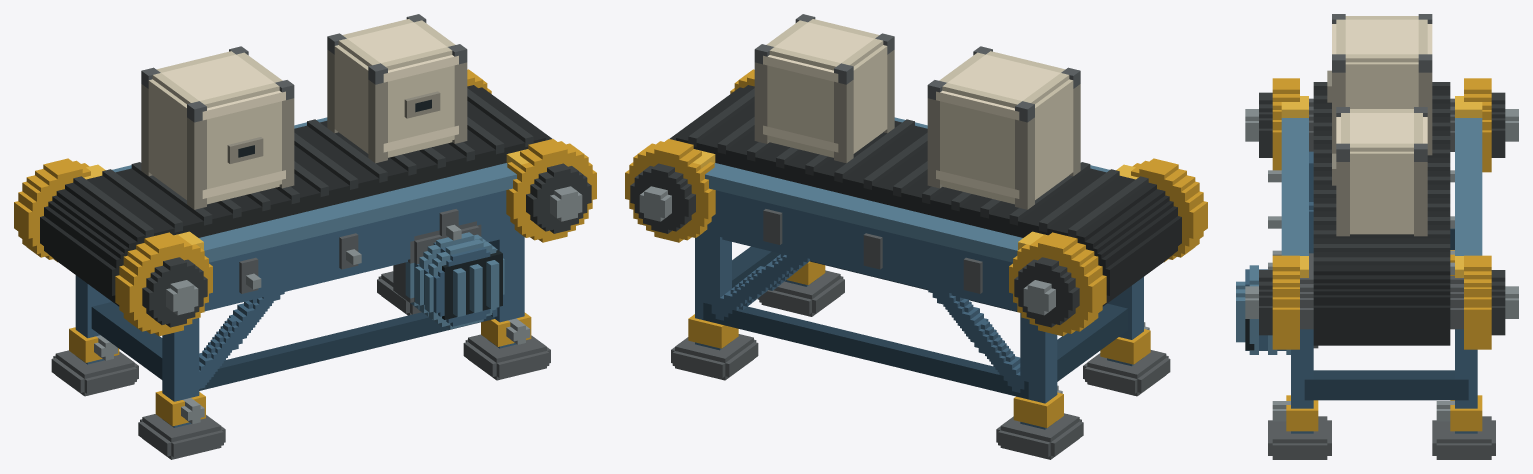
File: conveyor.glb
The picture shows the model from 3 angles, left to right: view 1: azimuth 30°, elevation 25°; view 2: azimuth 150°, elevation 25°; view 3: azimuth 270°, elevation 25°; orthographic projection. The views are drawn at different scales.
Visible parts, largest first — view 1: conveyor; view 2: conveyor; view 3: conveyor.
Boxes of the visible parts, x1=… form: conveyor: x1=14, y1=14, x2=596, y2=459; conveyor: x1=625, y1=14, x2=1207, y2=459; conveyor: x1=1236, y1=14, x2=1518, y2=459.
Size of the model in its own units: 5.04 by 3.24 by 2.79.
